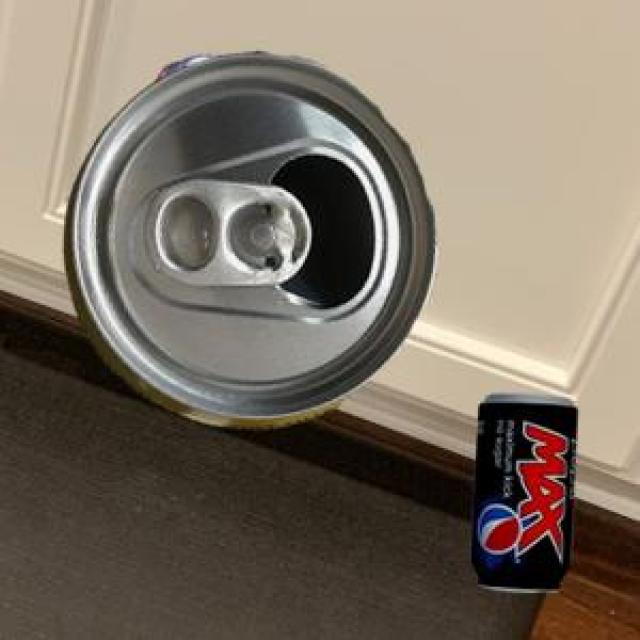logam: (61, 48, 434, 426), (468, 391, 575, 588), (157, 53, 221, 76)
